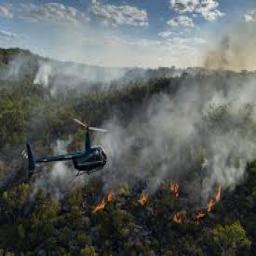Low smoke: (0, 7, 254, 206)
Medium fire: (76, 166, 230, 230)
